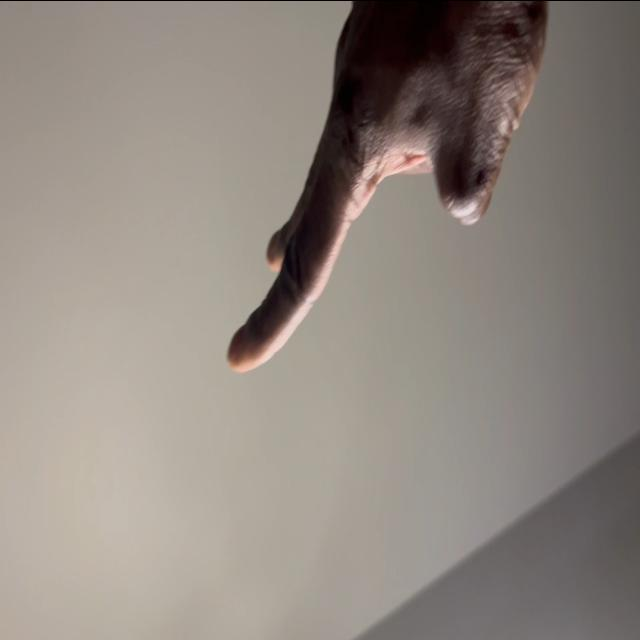Scissors: (223, 0, 547, 374)
